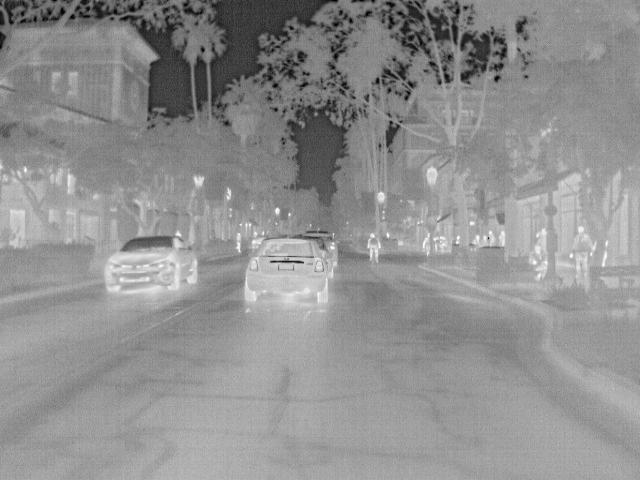car: (243, 234, 334, 306), (104, 235, 200, 296), (297, 237, 334, 278), (304, 233, 340, 266)
person: (571, 227, 594, 275), (529, 246, 547, 280), (364, 232, 381, 262), (233, 231, 246, 253), (534, 257, 550, 272), (538, 227, 550, 246), (497, 230, 509, 248)
